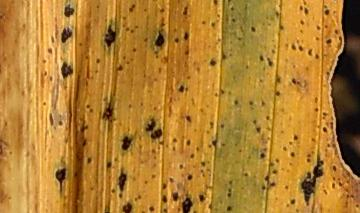tarspot: (303, 158, 324, 204), (105, 23, 116, 48), (56, 166, 66, 191), (60, 61, 73, 78), (61, 26, 72, 43), (63, 4, 75, 18), (117, 172, 126, 190), (154, 32, 165, 46), (182, 198, 192, 213), (122, 135, 131, 150), (146, 118, 156, 131), (151, 129, 162, 139), (48, 112, 55, 127), (123, 203, 131, 213), (172, 191, 179, 202), (177, 84, 185, 93), (329, 181, 337, 190), (185, 114, 192, 124), (266, 56, 272, 67), (80, 124, 88, 132), (149, 147, 157, 155), (290, 76, 297, 85), (219, 87, 226, 96), (182, 6, 188, 16), (208, 119, 214, 129), (290, 43, 297, 51), (323, 8, 330, 16), (274, 157, 281, 165), (210, 58, 216, 67), (199, 193, 205, 202), (307, 48, 313, 57), (331, 163, 337, 172), (162, 193, 167, 203), (148, 205, 155, 212), (47, 47, 54, 54), (211, 139, 218, 146), (226, 192, 233, 199), (177, 162, 184, 169), (297, 4, 304, 11), (158, 7, 165, 14), (314, 24, 321, 31), (337, 181, 344, 188), (325, 142, 332, 149), (183, 32, 189, 40), (115, 65, 123, 71), (143, 35, 149, 43), (304, 152, 312, 158), (250, 24, 255, 33), (264, 173, 269, 182), (260, 98, 265, 107), (161, 183, 167, 190), (106, 161, 112, 168), (95, 57, 101, 64), (186, 139, 192, 146), (219, 122, 225, 129), (325, 38, 332, 44), (322, 127, 328, 134), (276, 77, 282, 84), (187, 173, 192, 181), (82, 139, 87, 147), (259, 54, 264, 62), (118, 191, 123, 199), (233, 98, 238, 106), (299, 18, 304, 26), (334, 28, 339, 36), (261, 183, 266, 191), (221, 53, 226, 61), (163, 207, 169, 213), (110, 187, 116, 193), (189, 152, 195, 158), (259, 152, 265, 158), (282, 145, 288, 151), (265, 115, 271, 121), (151, 173, 157, 179), (184, 50, 190, 56), (283, 183, 289, 189), (345, 193, 351, 199), (168, 177, 175, 182), (43, 70, 48, 77), (42, 100, 47, 107), (58, 119, 63, 126), (132, 46, 137, 53), (226, 206, 233, 211), (256, 127, 261, 134), (275, 90, 280, 97), (293, 134, 298, 141), (291, 151, 296, 158), (322, 110, 327, 117), (314, 106, 319, 113), (272, 168, 277, 175), (275, 10, 280, 17), (315, 52, 319, 60), (332, 173, 336, 181), (175, 37, 180, 43), (87, 157, 92, 163), (42, 58, 47, 64), (248, 99, 253, 105), (154, 50, 159, 56), (122, 55, 127, 61), (137, 195, 143, 200), (127, 103, 132, 109), (231, 18, 237, 23), (279, 25, 285, 30), (291, 198, 296, 204), (306, 158, 312, 163), (355, 203, 360, 209), (228, 180, 233, 186), (325, 71, 331, 76), (95, 4, 100, 10), (121, 15, 127, 20), (144, 179, 149, 185), (142, 8, 148, 13), (49, 75, 53, 82), (299, 45, 303, 52), (304, 7, 308, 14), (211, 21, 215, 28), (270, 182, 277, 186), (86, 104, 91, 109), (128, 7, 133, 12), (201, 161, 206, 166), (252, 119, 257, 124), (315, 36, 320, 41), (288, 141, 293, 146), (202, 20, 207, 25), (230, 7, 235, 12), (350, 194, 355, 199), (186, 75, 191, 80), (131, 3, 135, 9), (125, 27, 131, 31), (172, 146, 176, 152), (172, 138, 177, 142), (213, 1, 218, 5), (323, 25, 328, 29), (244, 172, 248, 177), (130, 29, 135, 33), (79, 43, 83, 47)
